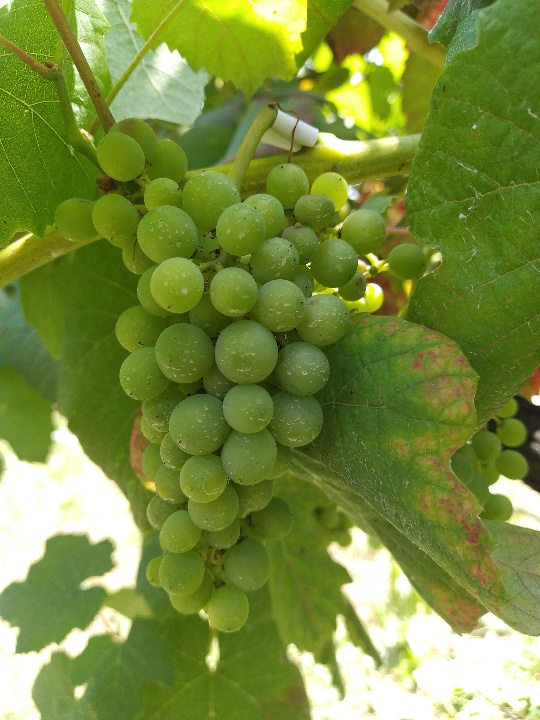grape: (49, 114, 427, 642)
